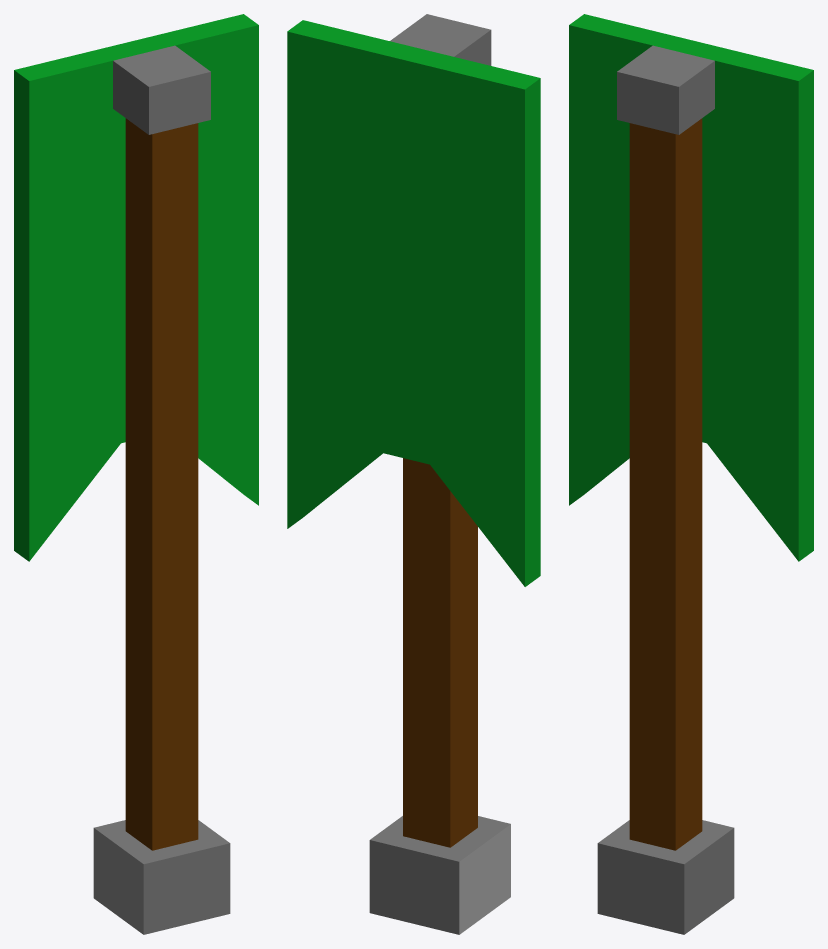
File: Flag_Green.fbx
3 views of the same model, side by side, from view 1: azimuth 30°, elevation 25°; view 2: azimuth 150°, elevation 25°; view 3: azimuth 330°, elevation 25° (orthographic). The views are drawn at different scales.
Visible parts, largest first — view 1: pCube1; view 2: pCube1; view 3: pCube1.
Boxes of the visible parts, x1,y1,x2,y2 form: pCube1: (14, 14, 258, 934); pCube1: (287, 14, 540, 934); pCube1: (569, 14, 813, 934).
Size of the model in its own units: 5 by 17.47 by 2.19.
